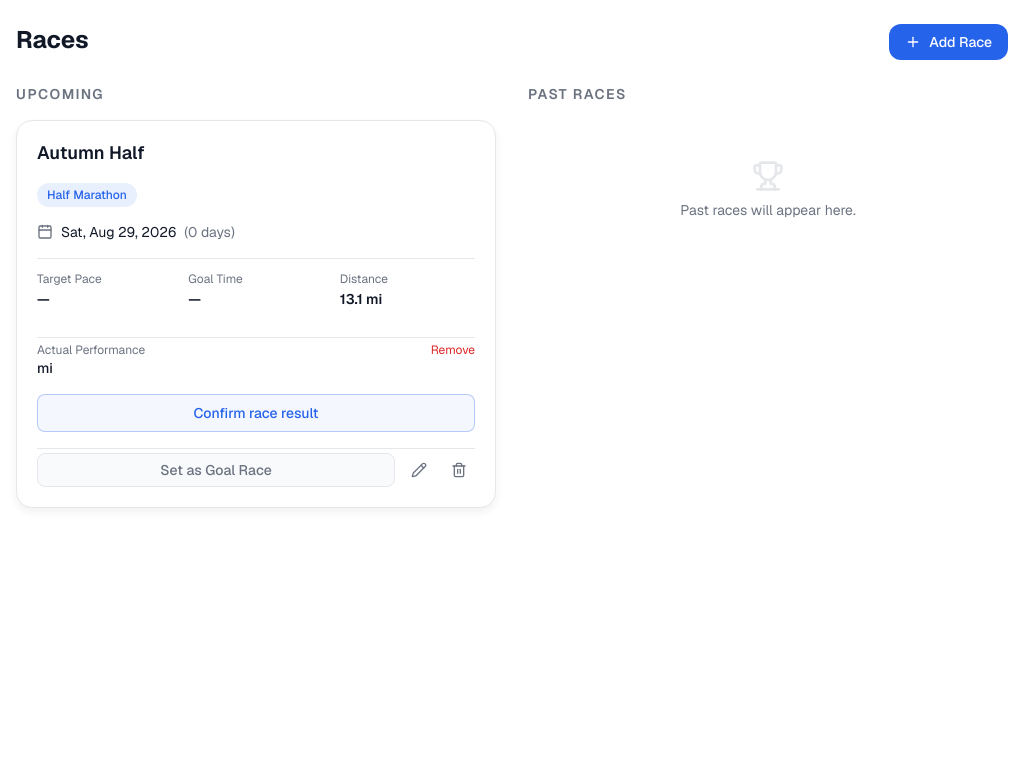
Test: RacesPage confirmation gate › opens the actual race confirmation without making a write
Click the button "Confirm race result": (256, 413) [37,394,475,432]
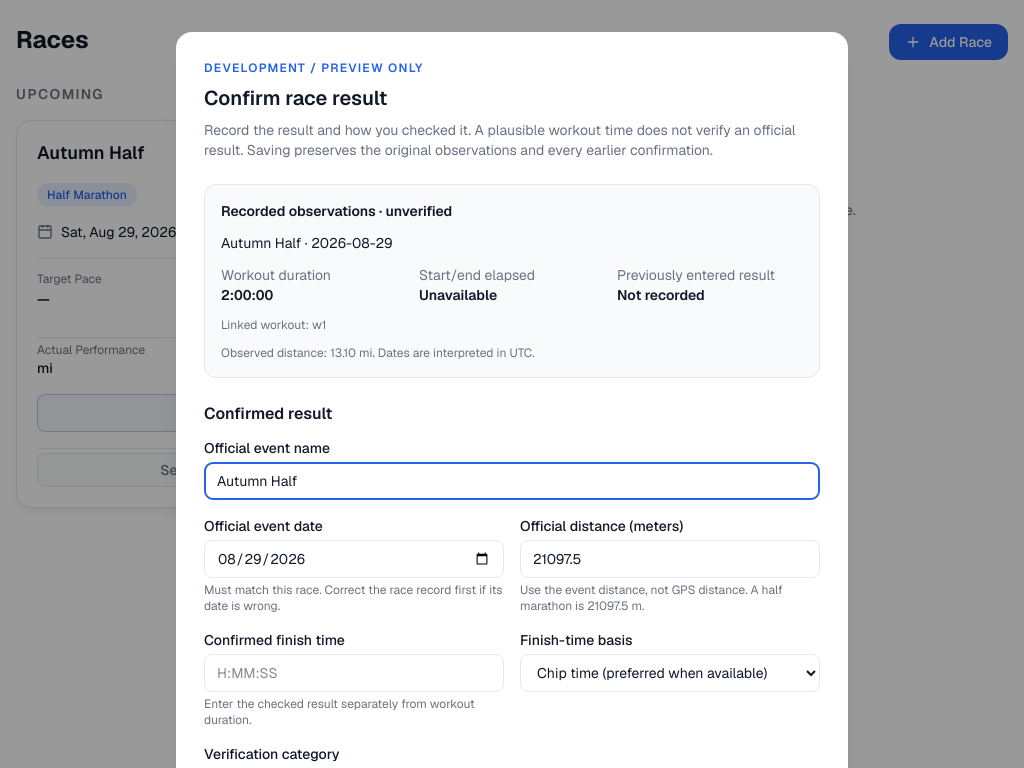
Result: the dialog named "Confirm race result" is shown
Result: the text "Linked workout: w1" is shown at [221,317,326,333]
